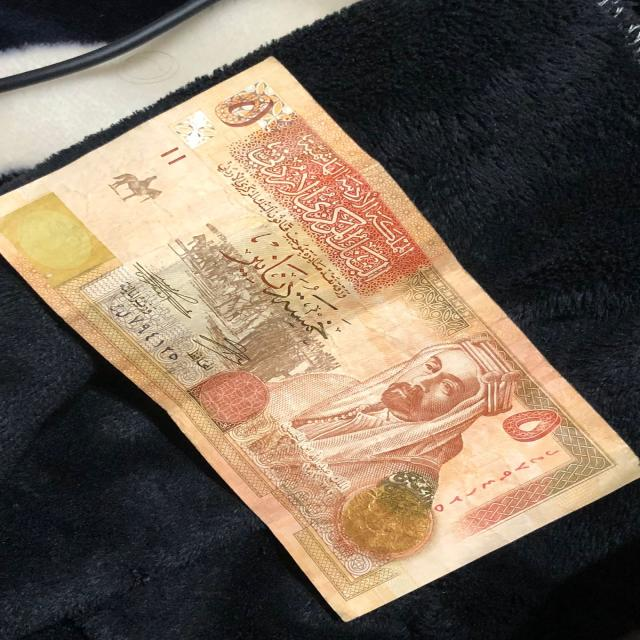5-dinar: (0, 55, 640, 622)
